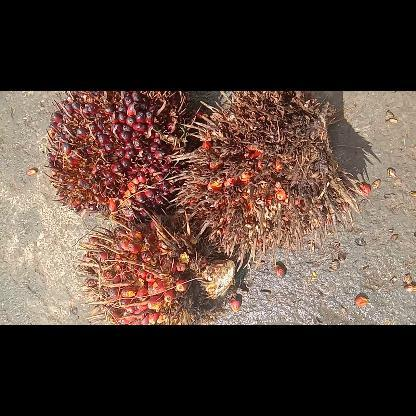TBS masak: (44, 91, 188, 225), (73, 210, 235, 324)
Terlalu masak: (166, 91, 368, 279)
